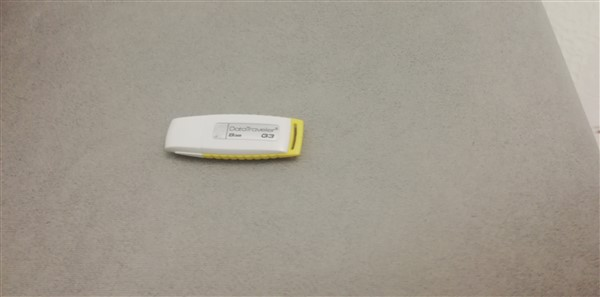flash disk: (163, 111, 314, 168)
